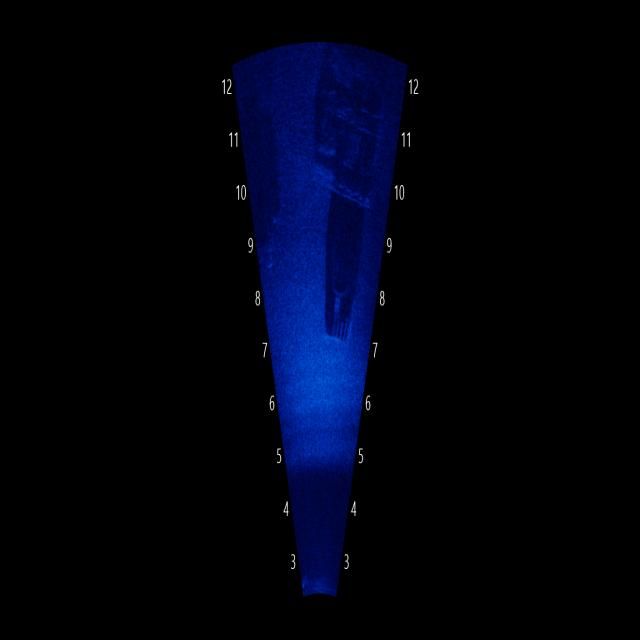square: (314, 225, 366, 358)
